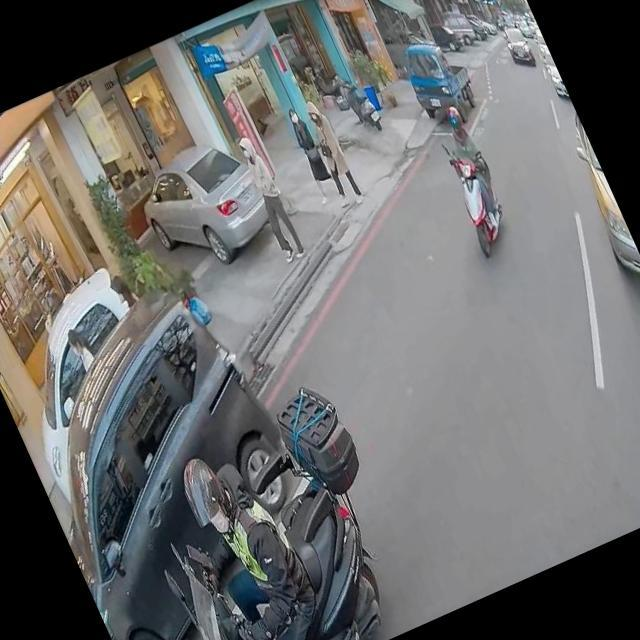person: (161, 437, 349, 640), (424, 99, 516, 241), (226, 127, 310, 270), (294, 93, 366, 209), (278, 98, 346, 210), (58, 321, 104, 379), (105, 269, 144, 314)
